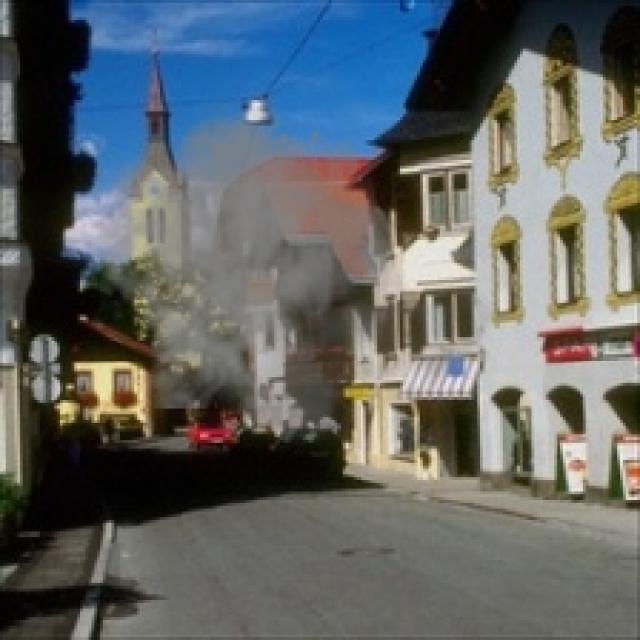smoke: (89, 91, 500, 452)
